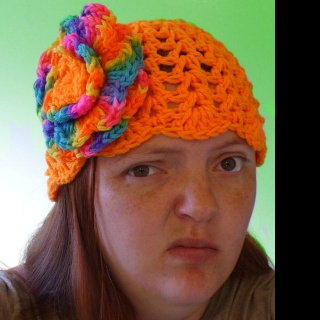without_mask: (90, 79, 256, 301)
